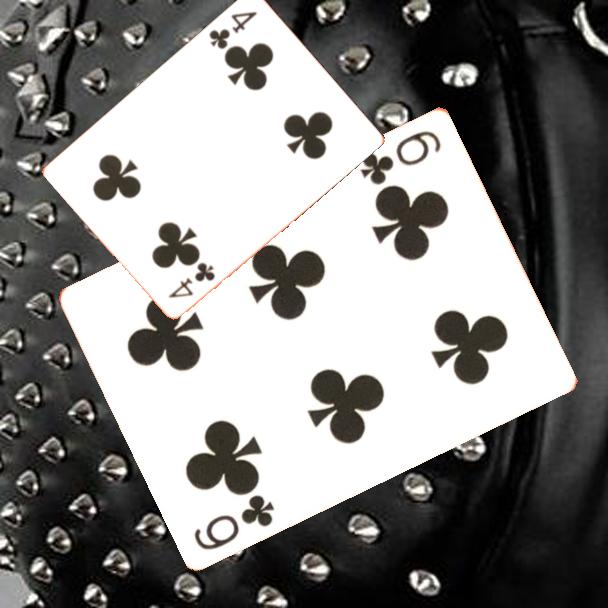c04: (205, 7, 260, 52), (165, 258, 218, 301)
c06: (190, 490, 278, 553), (357, 126, 444, 188)
